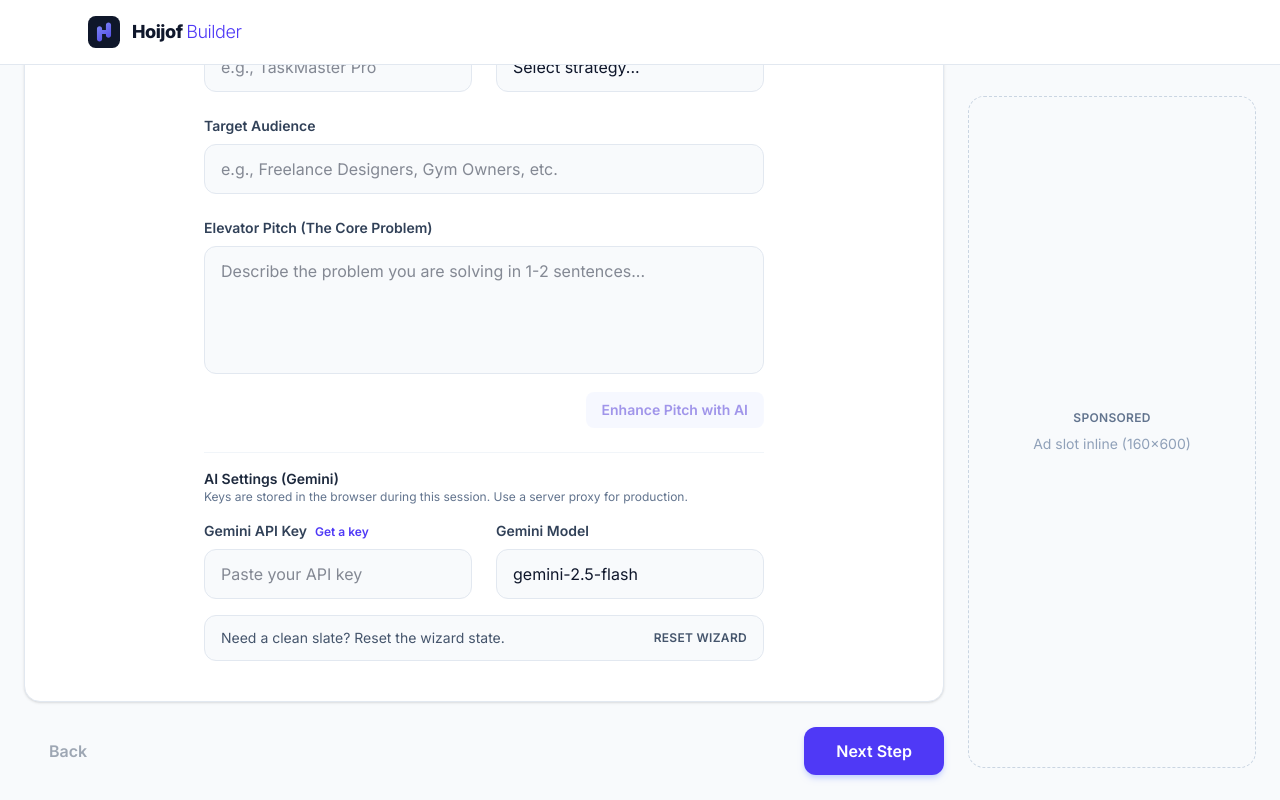
Test case: Step 3 feature backlog › shows an empty state when there are no features
(page scrolled)
Click the button "Next Step" at point(874, 751), box [804,727,944,775]
(page scrolled)
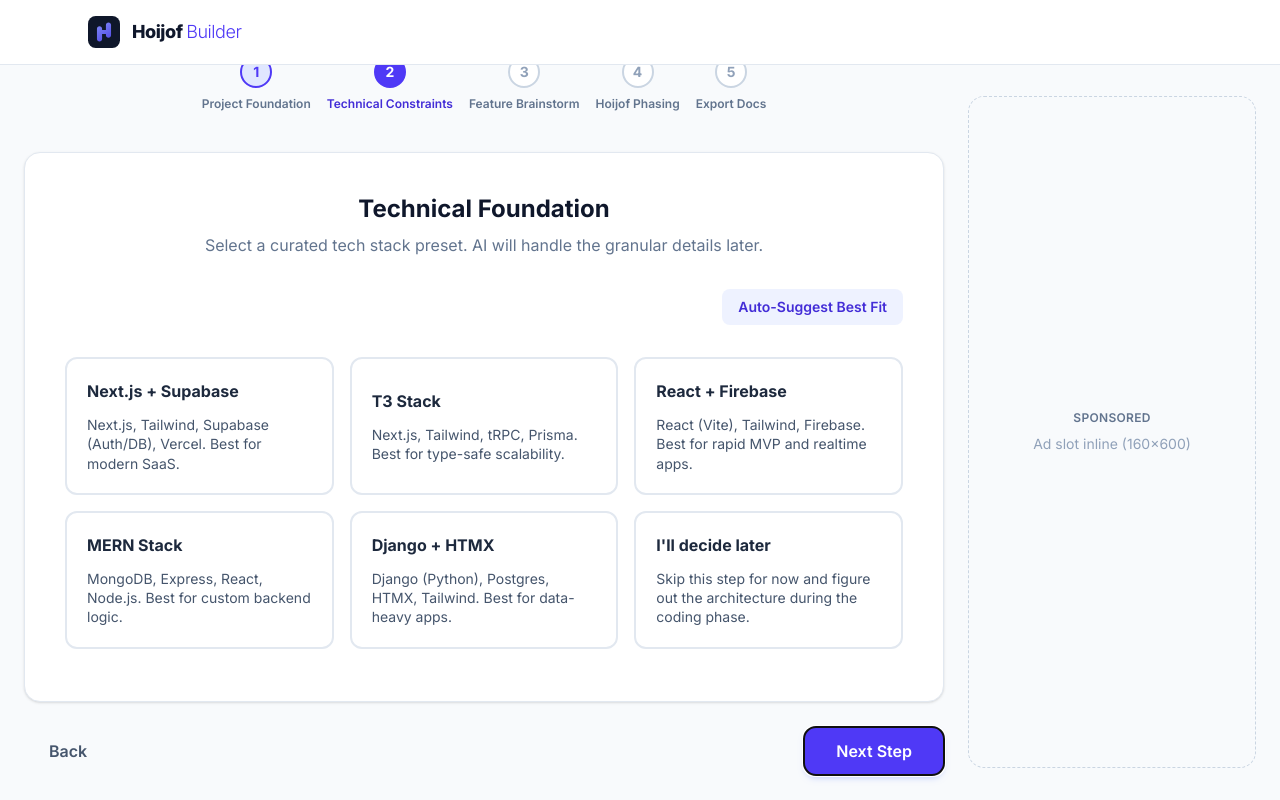
Click the button "Next Step" at point(874, 751), box [804,727,944,775]
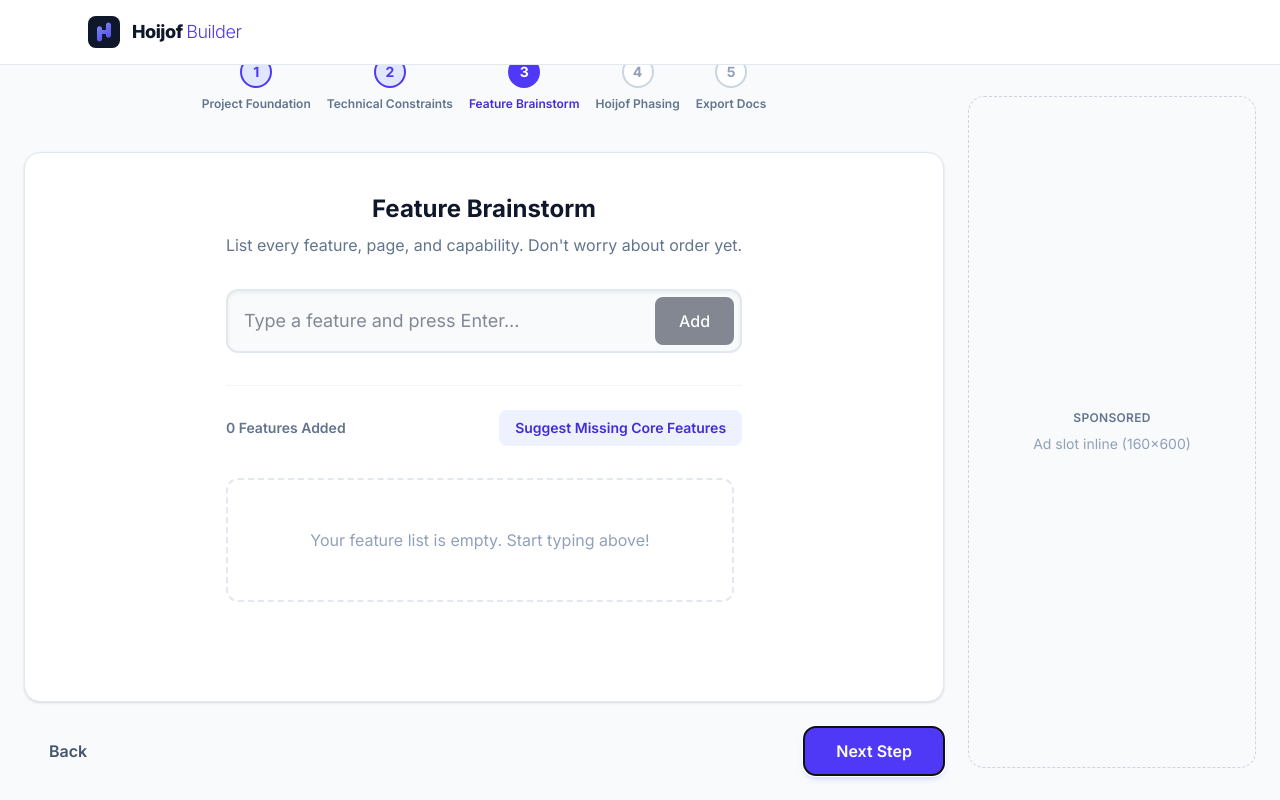
expect the text "Your feature list is empty. Start typing above!" is shown: met, box [226,478,734,602]
